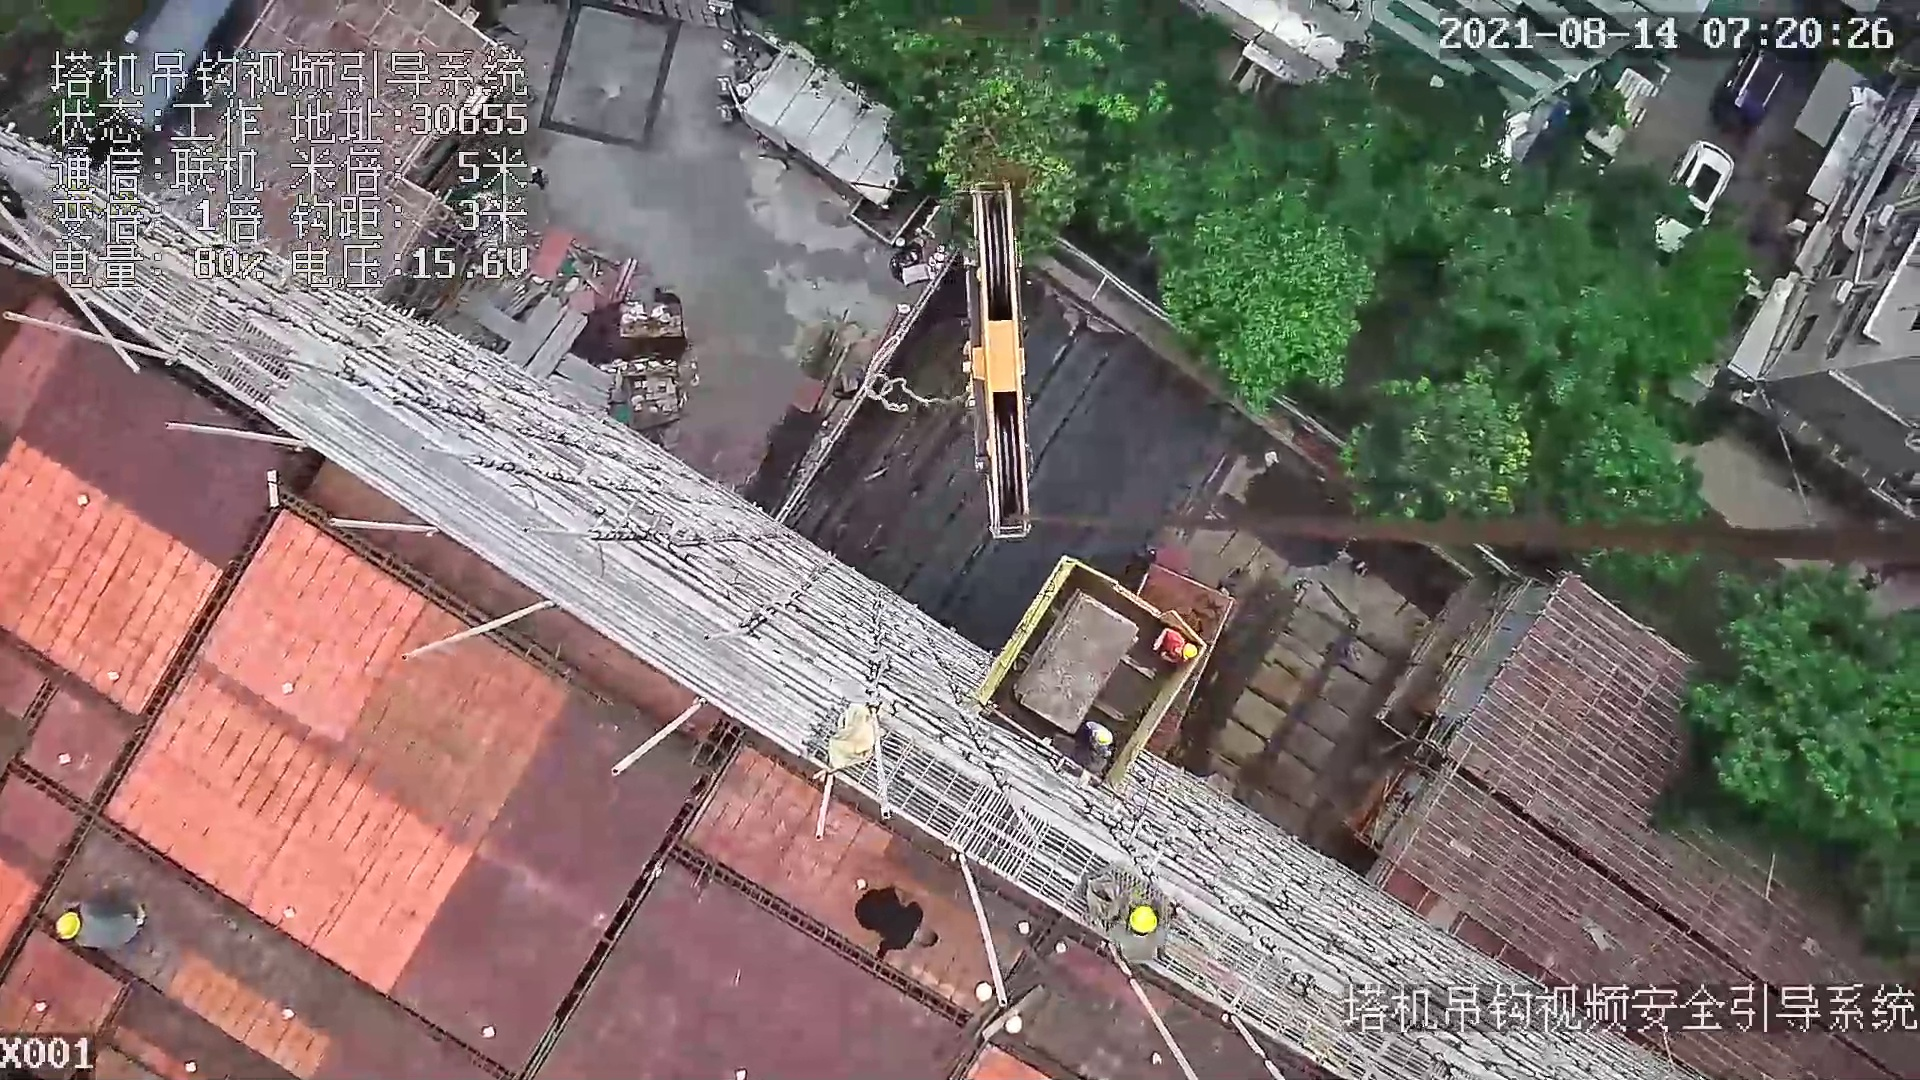helmet: (1123, 903, 1162, 937), (53, 909, 84, 940), (1091, 728, 1113, 749), (1182, 642, 1196, 661)
person: (849, 880, 940, 967), (1101, 873, 1163, 981), (56, 891, 145, 950), (1152, 622, 1197, 663), (1084, 714, 1116, 768)
